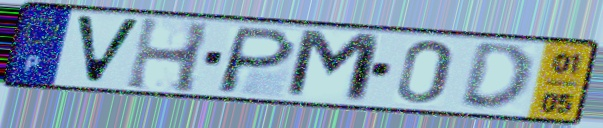0: (392, 37, 457, 108)
D: (455, 42, 536, 114)
H: (122, 14, 216, 96)
M: (281, 26, 386, 106)
P: (211, 24, 300, 97)
V: (71, 12, 146, 88)
